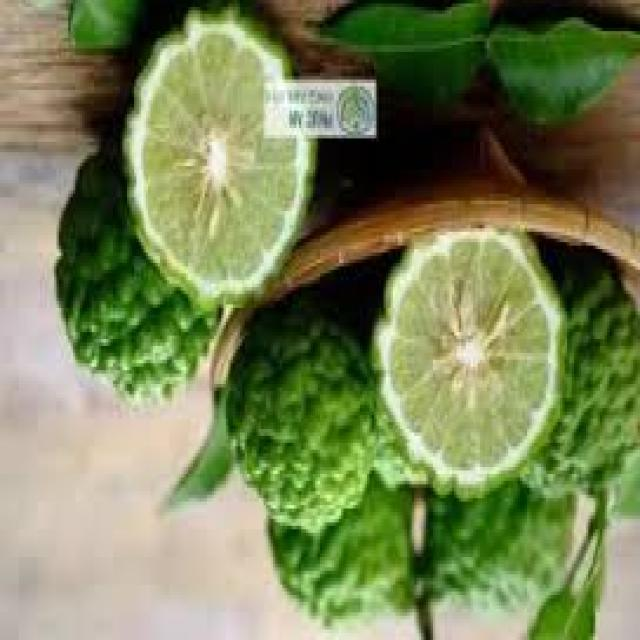Chuc: (122, 3, 320, 315), (372, 228, 570, 492), (266, 474, 579, 640), (54, 135, 224, 415), (226, 301, 382, 536), (522, 256, 640, 505), (268, 474, 416, 633)
